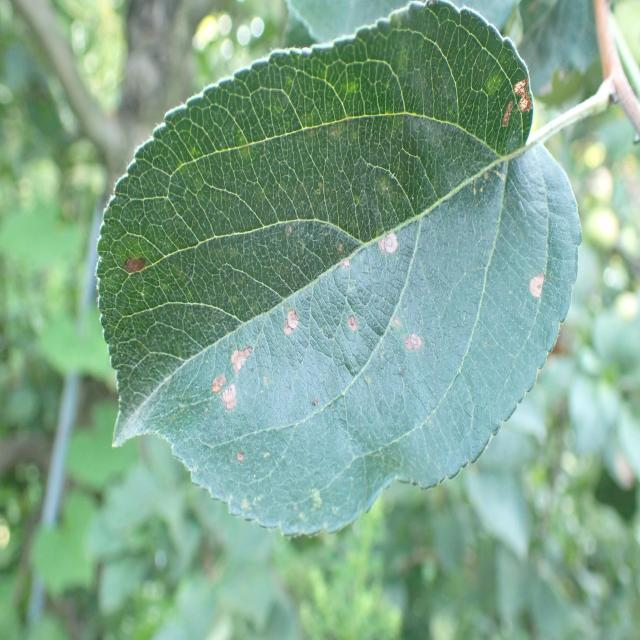frog-eye-leaf-spot: (93, 0, 581, 537)
